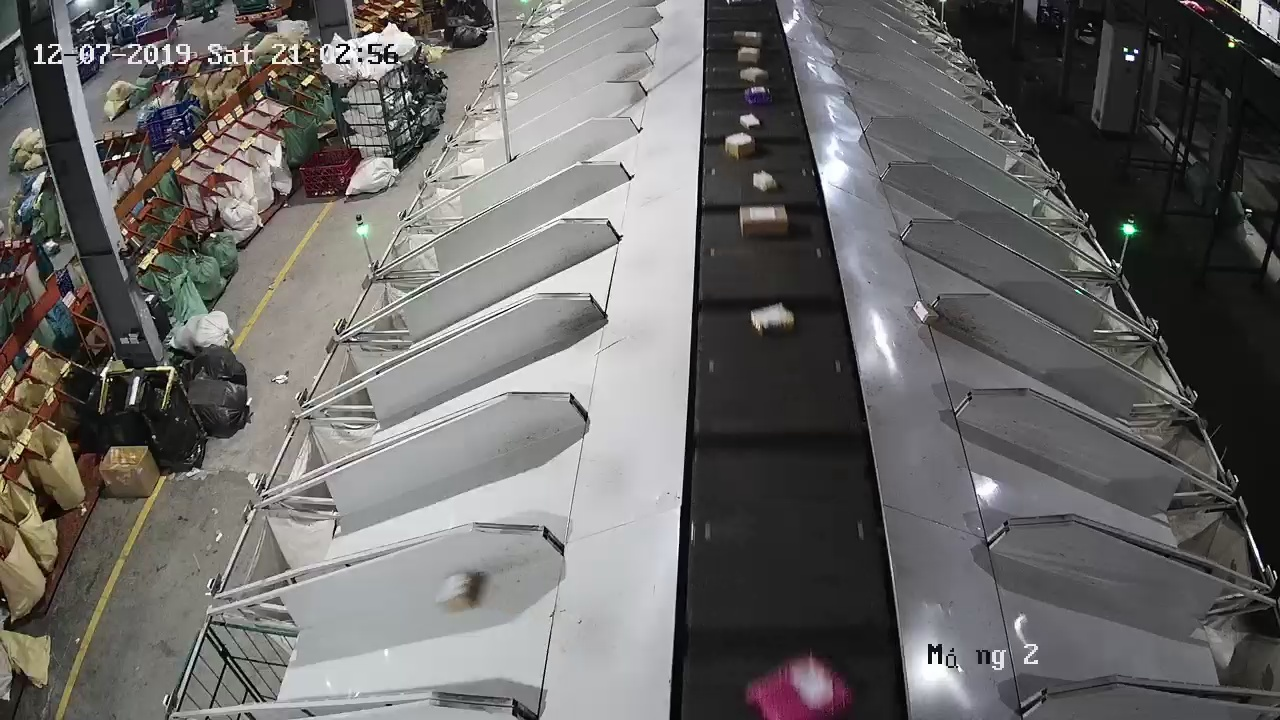parcel: (434, 570, 481, 614)
